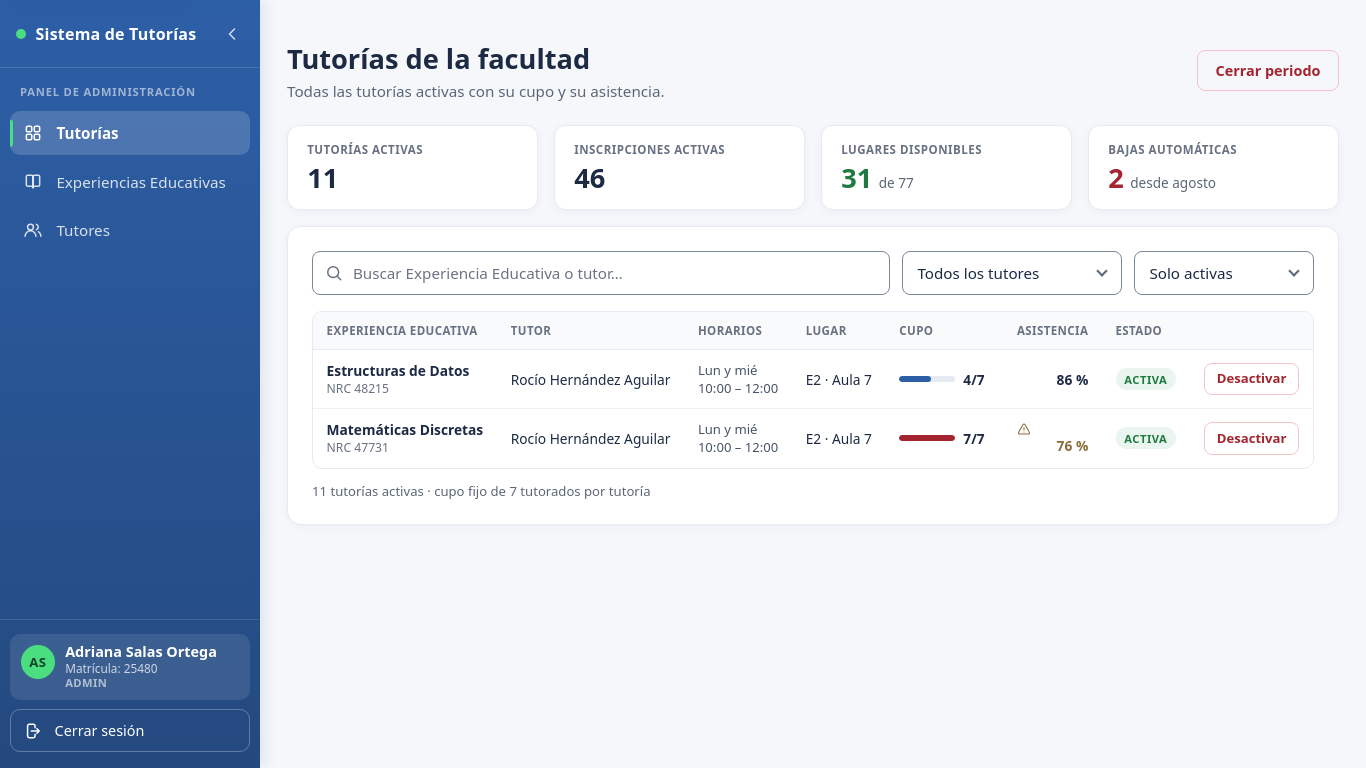
Test case: Tutorías de la facultad (15) › cierra el periodo solo despues de marcar la casilla y muestra el error del backend
Click the button "Cerrar periodo".
click(1268, 71)  # box [1197,50,1339,91]
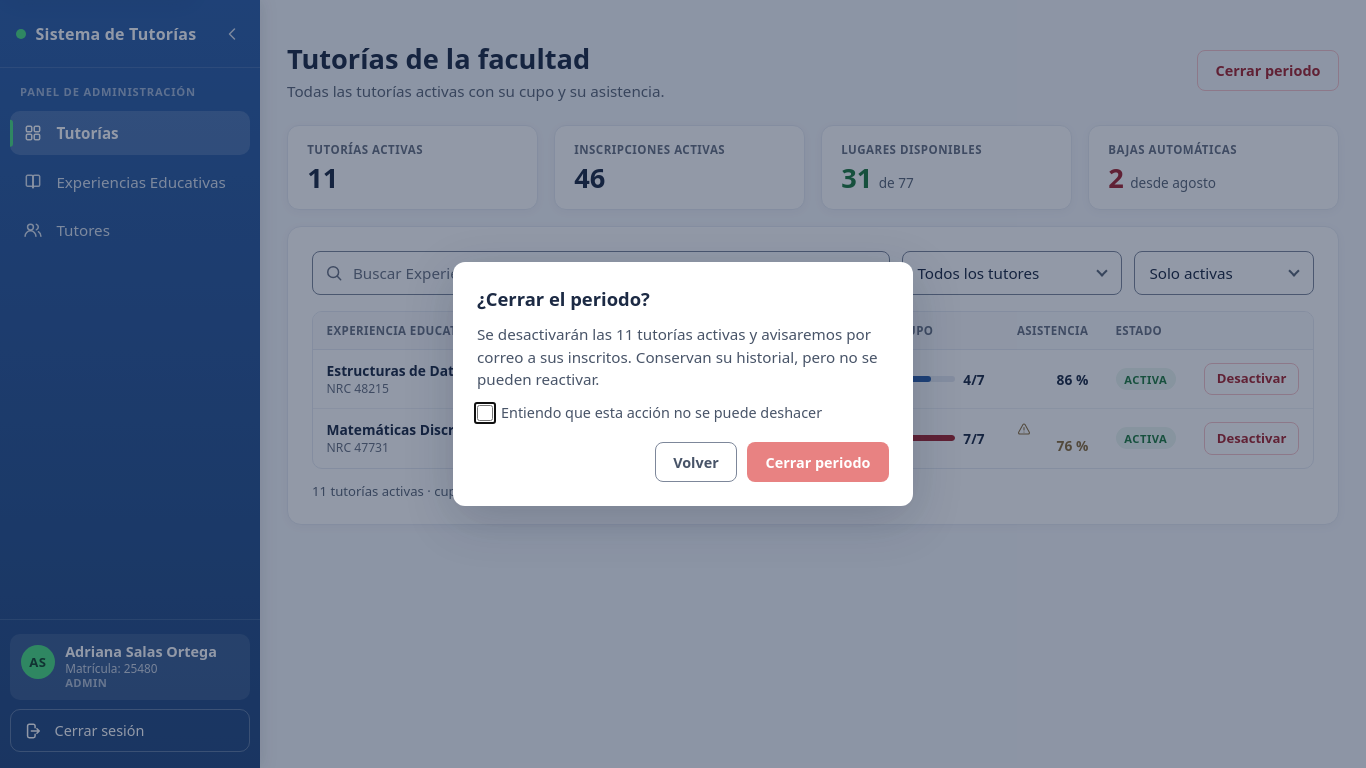
expect the text "Se desactivarán las 11 tutorías activas" is shown: met, box [477,324,878,389]
expect the button "Cerrar periodo" is disabled: met, box [747,442,889,482]
Click the checkbox labelled "Entiendo que esta acción no se puede deshacer".
click(485, 413)  # box [477,405,493,421]
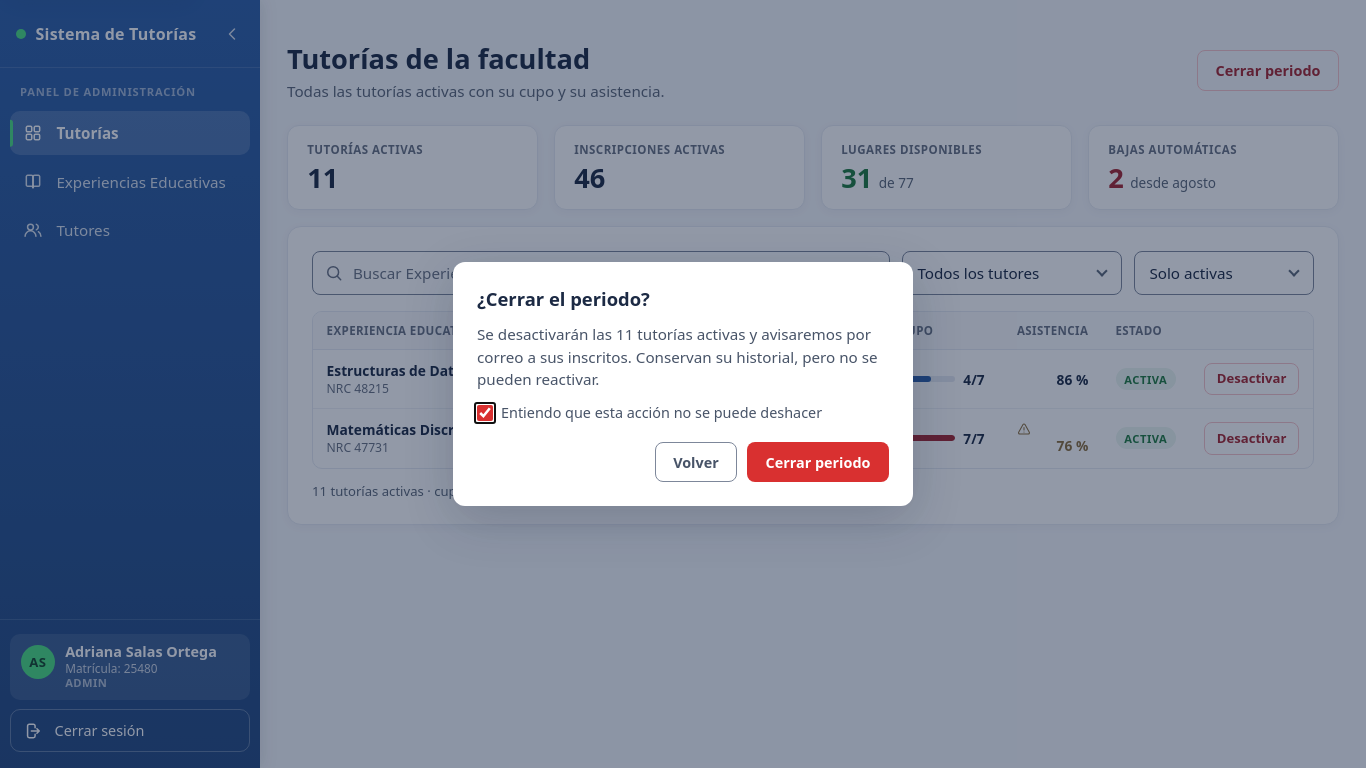
Click the button "Cerrar periodo".
click(818, 462)  # box [747,442,889,482]
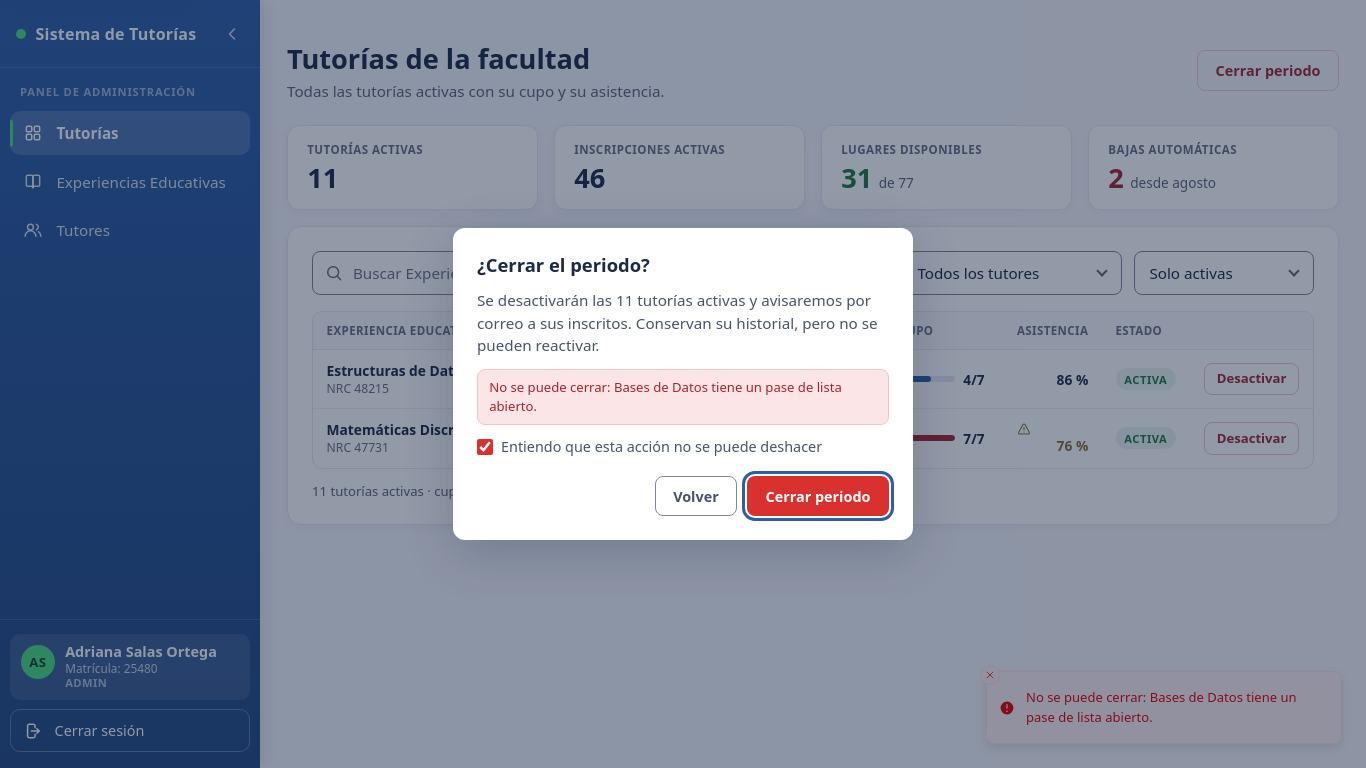
expect the text "No se puede cerrar: Bases de Datos tiene un pase de lista abierto." is shown: met, box [477,369,889,425]
